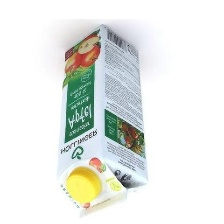carton: (52, 23, 154, 221)
